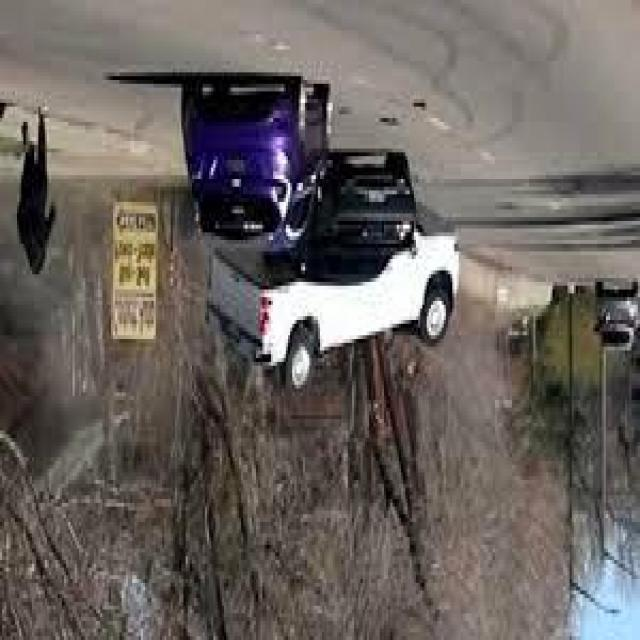severe: (200, 160, 463, 404)
